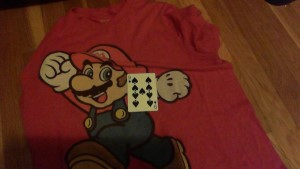NineOfSpades: (125, 71, 159, 114)
